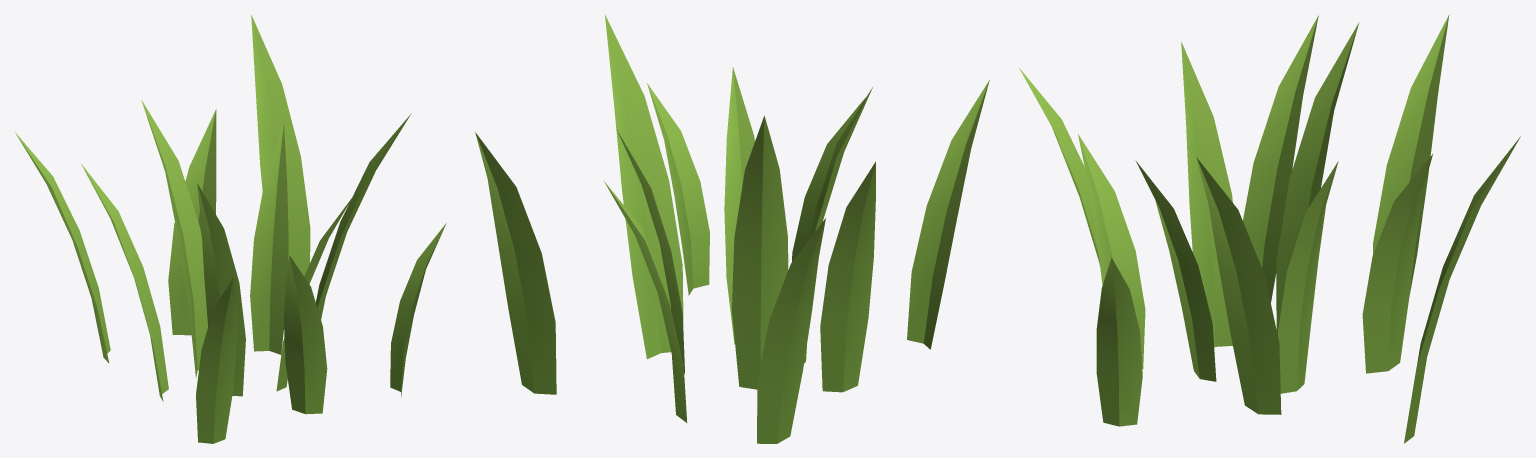
Rendered from Grass_2_D_Singlesided_Color3.fbx.
3 renders of one model, left to right at view 1: azimuth 30°, elevation 25°; view 2: azimuth 150°, elevation 25°; view 3: azimuth 270°, elevation 25°, orthographic. The views are drawn at different scales.
Visible parts, largest first — view 1: Grass_2_D_Singlesided_Color3; view 2: Grass_2_D_Singlesided_Color3; view 3: Grass_2_D_Singlesided_Color3.
Part boxes in pixels (bbox=[...]): Grass_2_D_Singlesided_Color3: bbox=[14, 15, 446, 443]; Grass_2_D_Singlesided_Color3: bbox=[475, 15, 989, 443]; Grass_2_D_Singlesided_Color3: bbox=[1019, 14, 1520, 443].
Bounding box in the file's own units: 1.08 × 0.9336 × 1.34.
